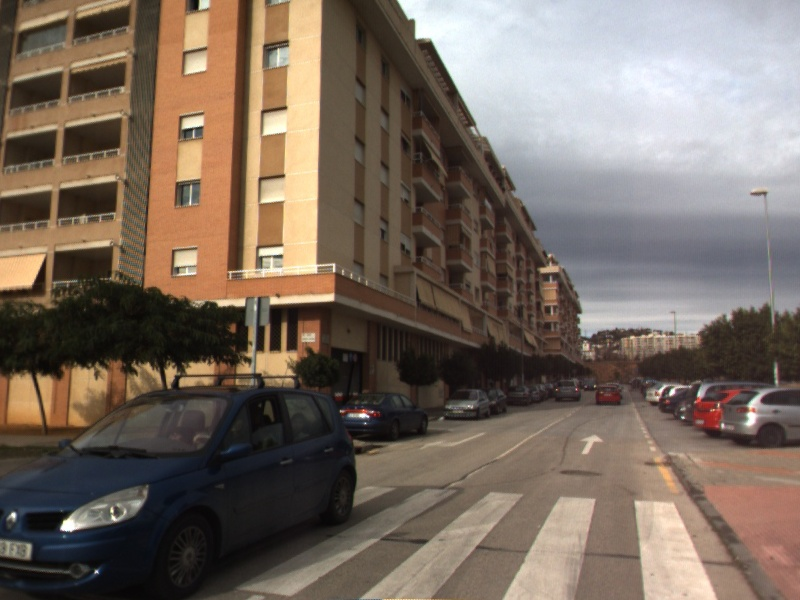STRAIGHT: (578, 432, 606, 456)
